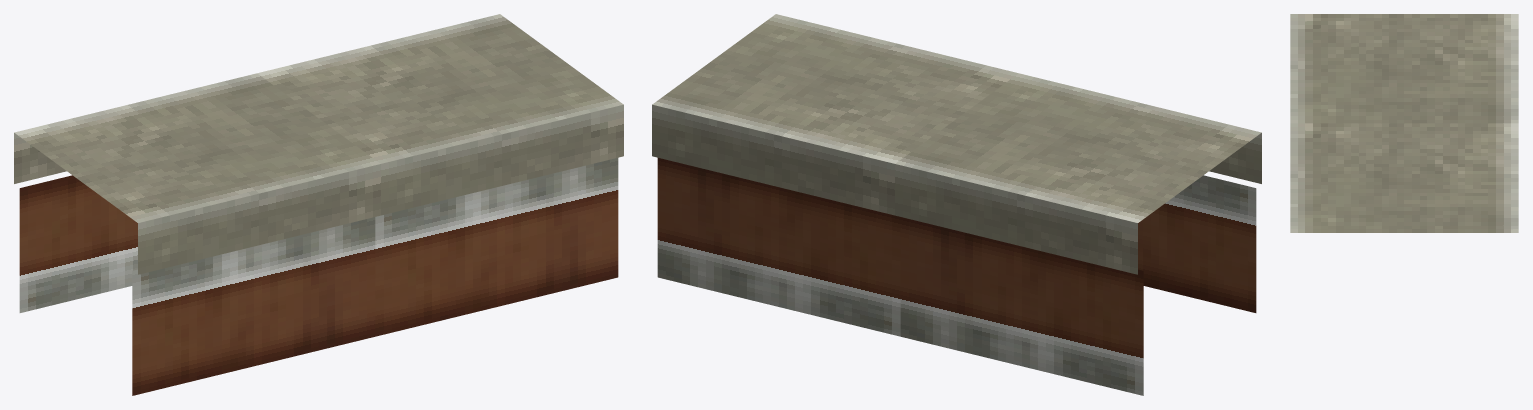
3 renders of one model, left to right at view 1: azimuth 30°, elevation 25°; view 2: azimuth 150°, elevation 25°; view 3: azimuth 270°, elevation 25°, orthographic. The views are drawn at different scales.
Visible parts, largest first — view 1: prim185-counter; view 2: prim185-counter; view 3: prim185-counter.
Part boxes in pixels (<box>): prim185-counter: <box>14,14,623,395</box>; prim185-counter: <box>652,14,1261,395</box>; prim185-counter: <box>1290,14,1518,232</box>.
Size of the model in its own units: 256 by 89 by 113.
Materials: 1 (1 with a texture image).
